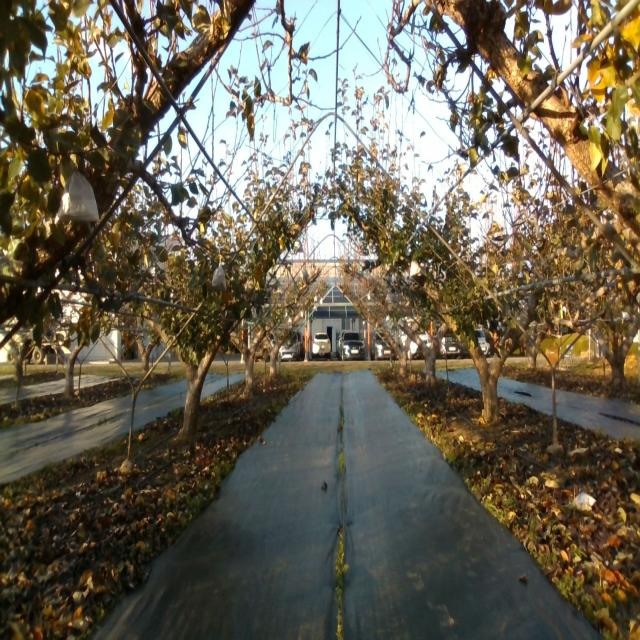pearbags: (56, 170, 100, 222), (211, 264, 227, 291), (409, 260, 421, 278)
